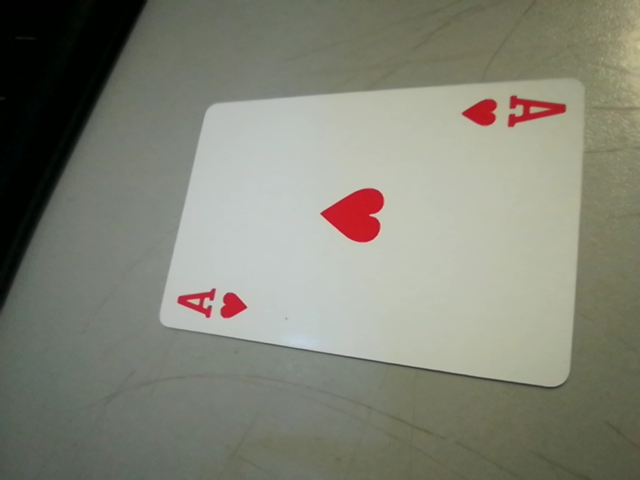hx a: (457, 88, 564, 131)
